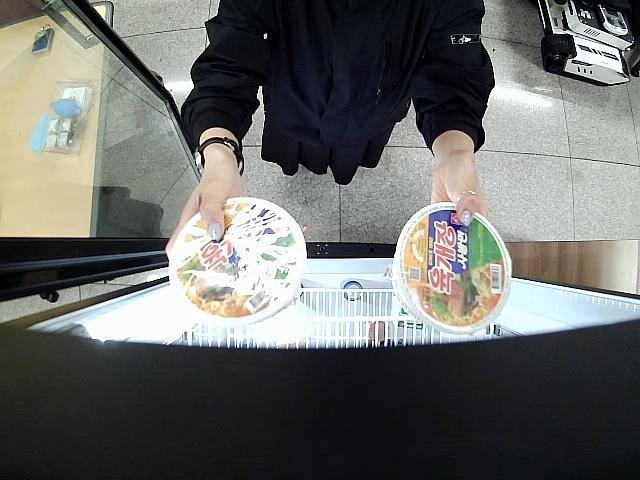09_yukGaeJang: (169, 196, 308, 324), (392, 203, 512, 333)
